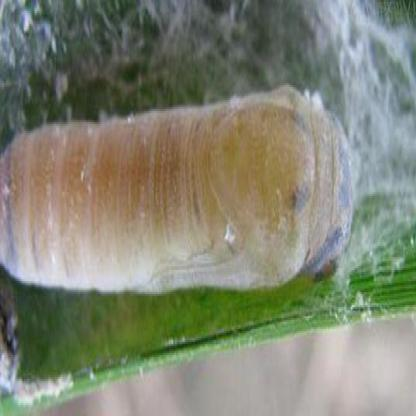leaf-folder: (15, 64, 362, 326)
